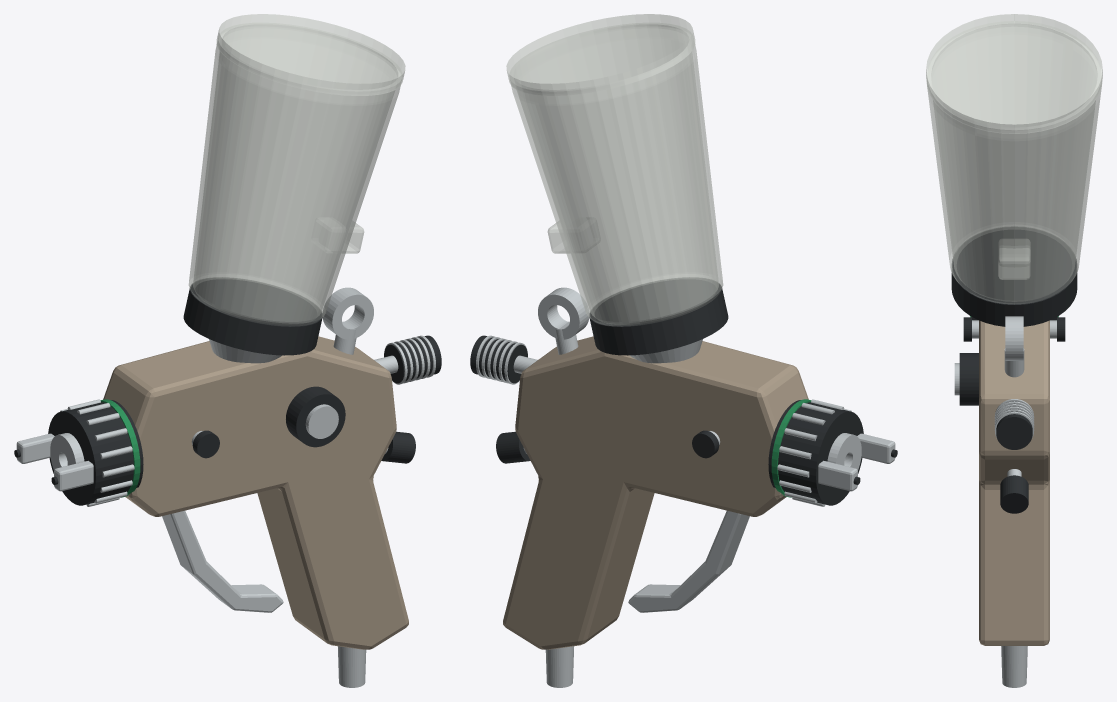
The model's file is full.glb.
The picture shows the model from 3 angles, left to right: view 1: azimuth 30°, elevation 25°; view 2: azimuth 150°, elevation 25°; view 3: azimuth 270°, elevation 25°; orthographic projection. The views are drawn at different scales.
Parts seen in each view (by area): view 1: Pistol body and swept grip, Translucent tapered gravity cup, Plain cup closed lid, Wide dark cup collar, Front hollow nozzle collar, Long curved trigger, Side circular dial, Small upper hanging eye, Rear axial ribbed knob, Lower open air fitting, Front metal aperture lip, Opposed nozzle horn -1 (+6 smaller); view 2: Pistol body and swept grip, Translucent tapered gravity cup, Plain cup closed lid, Wide dark cup collar, Front hollow nozzle collar, Long curved trigger, Small upper hanging eye, Rear axial ribbed knob, Lower open air fitting, Front metal aperture lip, Opposed nozzle horn 1, Opposed nozzle horn -1 (+4 smaller); view 3: Translucent tapered gravity cup, Pistol body and swept grip, Plain cup closed lid, Wide dark cup collar, Small cup side tab, Rear axial ribbed knob, Lower open air fitting, Side circular dial, Lower rear knob, Small upper hanging eye, Generic hanging eye foot.
Part boxes in pixels (left/top/right/bottom): Pistol body and swept grip: left=103, top=336, right=408, bottom=649; Translucent tapered gravity cup: left=188, top=23, right=402, bottom=326; Plain cup closed lid: left=216, top=14, right=405, bottom=95; Wide dark cup collar: left=183, top=278, right=322, bottom=355; Front hollow nozzle collar: left=48, top=400, right=143, bottom=505; Long curved trigger: left=162, top=510, right=283, bottom=612; Side circular dial: left=286, top=386, right=345, bottom=447; Small upper hanging eye: left=322, top=287, right=373, bottom=339; Rear axial ribbed knob: left=384, top=335, right=441, bottom=383; Lower open air fitting: left=338, top=646, right=366, bottom=687; Front metal aperture lip: left=50, top=433, right=84, bottom=470; Opposed nozzle horn -1: left=54, top=460, right=93, bottom=491; Pistol body and swept grip: left=503, top=336, right=808, bottom=649; Translucent tapered gravity cup: left=509, top=23, right=723, bottom=326; Plain cup closed lid: left=506, top=14, right=695, bottom=95; Wide dark cup collar: left=589, top=278, right=728, bottom=355; Front hollow nozzle collar: left=768, top=400, right=863, bottom=505; Long curved trigger: left=628, top=510, right=749, bottom=612; Small upper hanging eye: left=538, top=287, right=589, bottom=339; Rear axial ribbed knob: left=470, top=335, right=527, bottom=383; Lower open air fitting: left=545, top=646, right=573, bottom=687; Front metal aperture lip: left=827, top=433, right=861, bottom=470; Opposed nozzle horn 1: left=818, top=460, right=857, bottom=491; Opposed nozzle horn -1: left=857, top=433, right=895, bottom=463; Translucent tapered gravity cup: left=927, top=21, right=1101, bottom=304; Pistol body and swept grip: left=979, top=320, right=1049, bottom=645; Plain cup closed lid: left=926, top=14, right=1102, bottom=133; Wide dark cup collar: left=951, top=227, right=1077, bottom=326; Small cup side tab: left=998, top=239, right=1030, bottom=279; Rear axial ribbed knob: left=996, top=401, right=1032, bottom=449; Lower open air fitting: left=1001, top=646, right=1027, bottom=687; Side circular dial: left=959, top=353, right=978, bottom=405; Lower rear knob: left=1000, top=475, right=1028, bottom=513; Small upper hanging eye: left=1005, top=316, right=1023, bottom=360; Generic hanging eye foot: left=1004, top=348, right=1024, bottom=377.
Bounding box in the file's own units: 0.209 × 0.3339 × 0.087.
